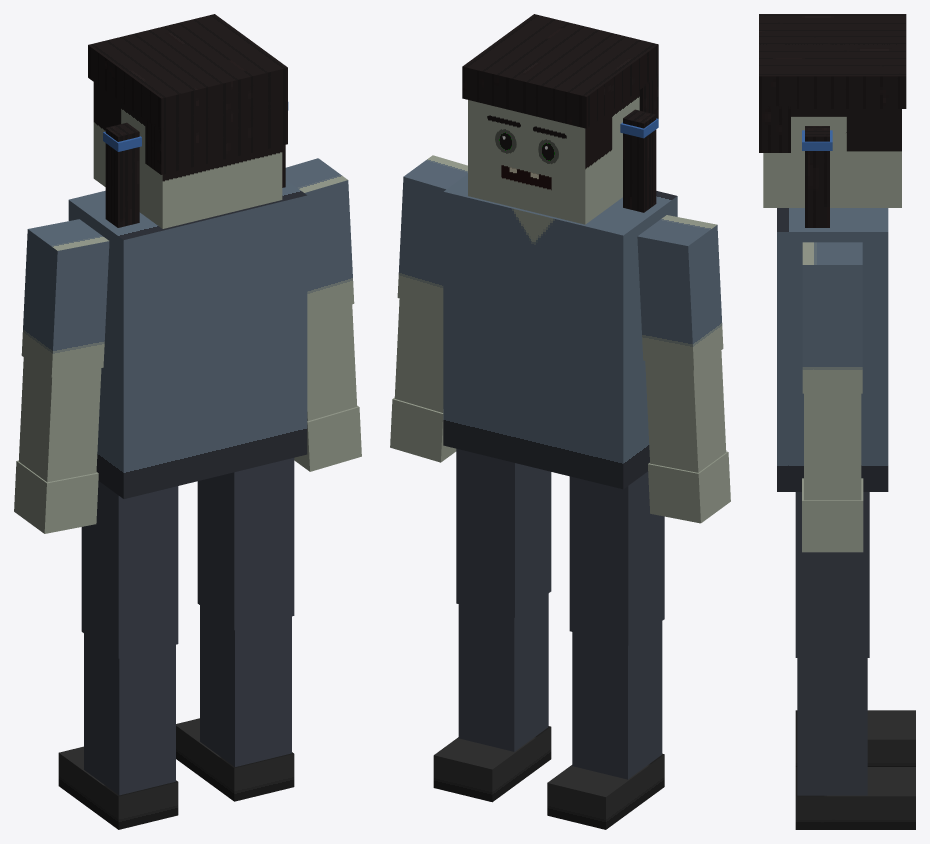
File: hair_pigtails.glb
3 views of the same model, side by side, from view 1: azimuth 30°, elevation 25°; view 2: azimuth 150°, elevation 25°; view 3: azimuth 270°, elevation 25° (orthographic). The views are drawn at different scales.
Visible parts, largest first — view 1: block_torso, block_hair-cap, block_thigh.L, block_thigh.R, block_shin.L, block_shin.R, block_upper_arm.L, block_head, block_forearm.L, block_upper_arm.R, block_hair-back, block_forearm.R (+5 smaller); view 2: block_torso, block_head, block_hair-cap, block_thigh.L, block_thigh.R, block_shin.R, block_shin.L, block_upper_arm.L, block_forearm.L, block_upper_arm.R, block_foot.R, block_foot.L (+5 smaller); view 3: block_torso, block_hair-cap, block_head, block_shin.R, block_upper_arm.R, block_thigh.R, block_forearm.R, block_foot.R, block_hand.R, block_foot.L, block_hair-pigtail, block_hair-back (+1 smaller).
Boxes of the visible parts, bbox=[...] form: block_torso: bbox=[68, 180, 307, 498]; block_hair-cap: bbox=[88, 14, 287, 130]; block_thigh.L: bbox=[81, 481, 178, 658]; block_thigh.R: bbox=[197, 458, 294, 630]; block_shin.L: bbox=[84, 633, 175, 795]; block_shin.R: bbox=[200, 605, 291, 766]; block_upper_arm.L: bbox=[21, 219, 109, 377]; block_head: bbox=[93, 82, 282, 228]; block_forearm.L: bbox=[18, 357, 101, 482]; block_upper_arm.R: bbox=[285, 158, 354, 317]; block_hair-back: bbox=[145, 98, 287, 174]; block_forearm.R: bbox=[307, 304, 357, 421]; block_torso: bbox=[443, 174, 677, 489]; block_head: bbox=[468, 90, 639, 224]; block_hair-cap: bbox=[462, 14, 658, 128]; block_thigh.L: bbox=[569, 471, 664, 645]; block_thigh.R: bbox=[456, 448, 551, 617]; block_shin.R: bbox=[458, 593, 548, 751]; block_shin.L: bbox=[572, 621, 662, 779]; block_upper_arm.L: bbox=[637, 215, 723, 369]; block_forearm.L: bbox=[645, 350, 726, 472]; block_upper_arm.R: bbox=[397, 155, 467, 311]; block_foot.R: bbox=[433, 726, 551, 802]; block_foot.L: bbox=[547, 753, 664, 829]; block_torso: bbox=[777, 208, 888, 491]; block_hair-cap: bbox=[759, 14, 906, 108]; block_head: bbox=[763, 109, 901, 207]; block_shin.R: bbox=[797, 658, 867, 795]; block_upper_arm.R: bbox=[802, 242, 862, 393]; block_thigh.R: bbox=[795, 492, 869, 657]; block_forearm.R: bbox=[804, 393, 861, 500]; block_foot.R: bbox=[795, 767, 915, 829]; block_hand.R: bbox=[802, 478, 863, 552]; block_foot.L: bbox=[795, 710, 915, 766]; block_hair-pigtail: bbox=[805, 126, 829, 227]; block_hair-back: bbox=[759, 106, 790, 152].
Size of the model in its own units: 0.7948 by 1.77 by 0.339.
Materials: 1 (1 with a texture image).
